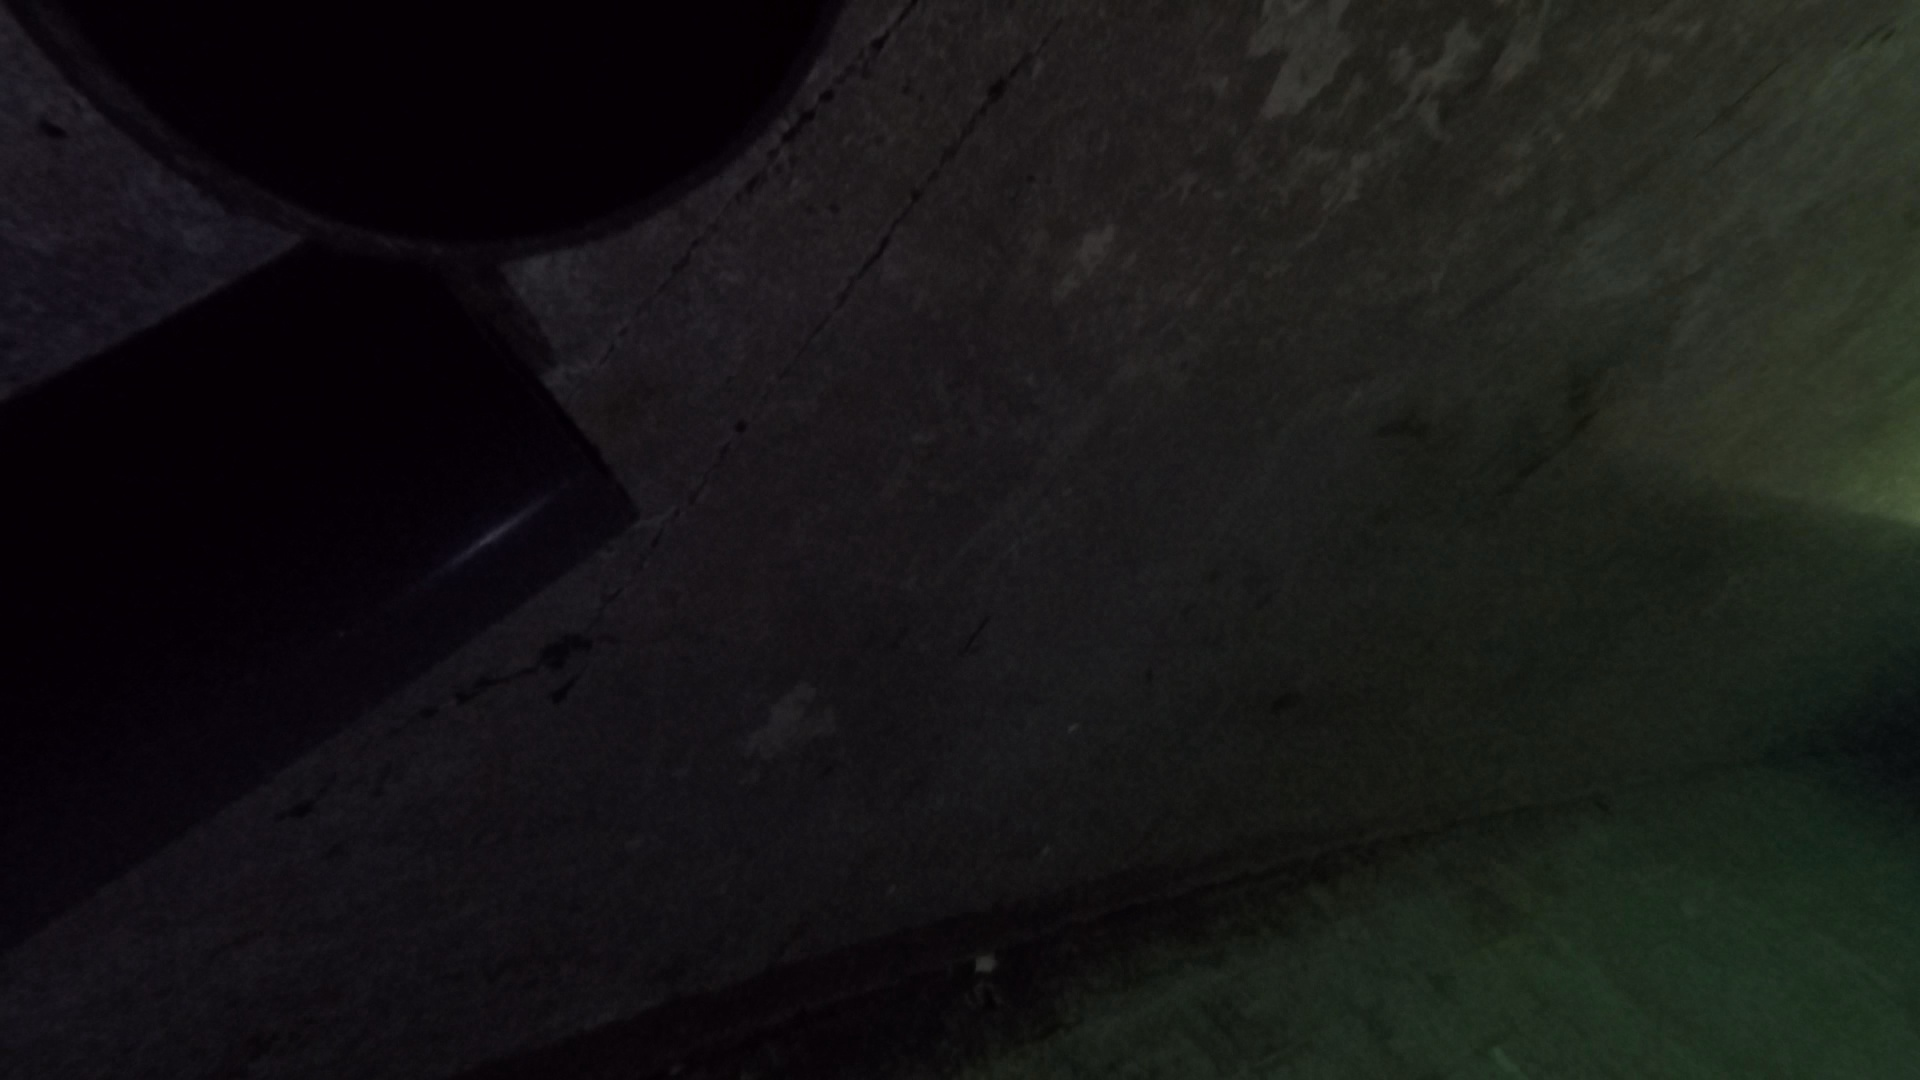pipe: (1, 227, 646, 938), (9, 1, 853, 265)
